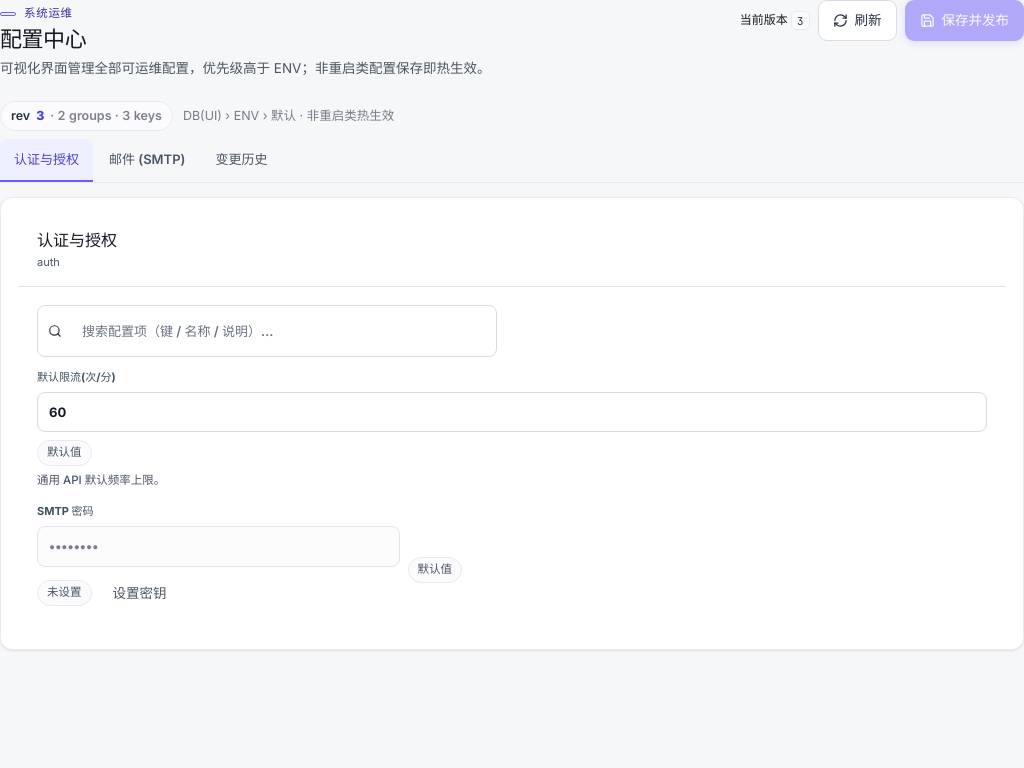
Scenario: AdminPlatformConfigPage › 变更历史渲染发布版本并完成回滚确认流
Click the tab with test id "cfg-tab-history": point(241, 160) [201,139,281,182]
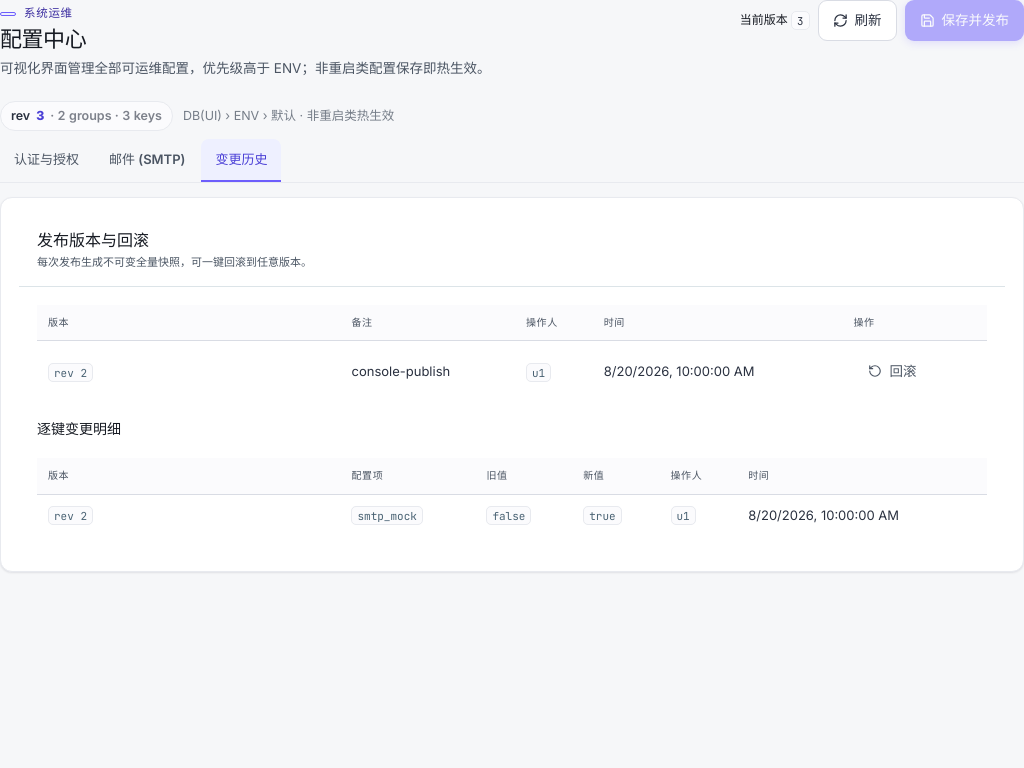
Check: the row with test id "cfg-rev-2" is shown, box [37,341,987,402]
Check: the row with test id "cfg-hist-cfg_1" is shown, box [37,495,987,535]
Click the button with test id "cfg-rollback-2": point(892, 371) [853,351,931,392]
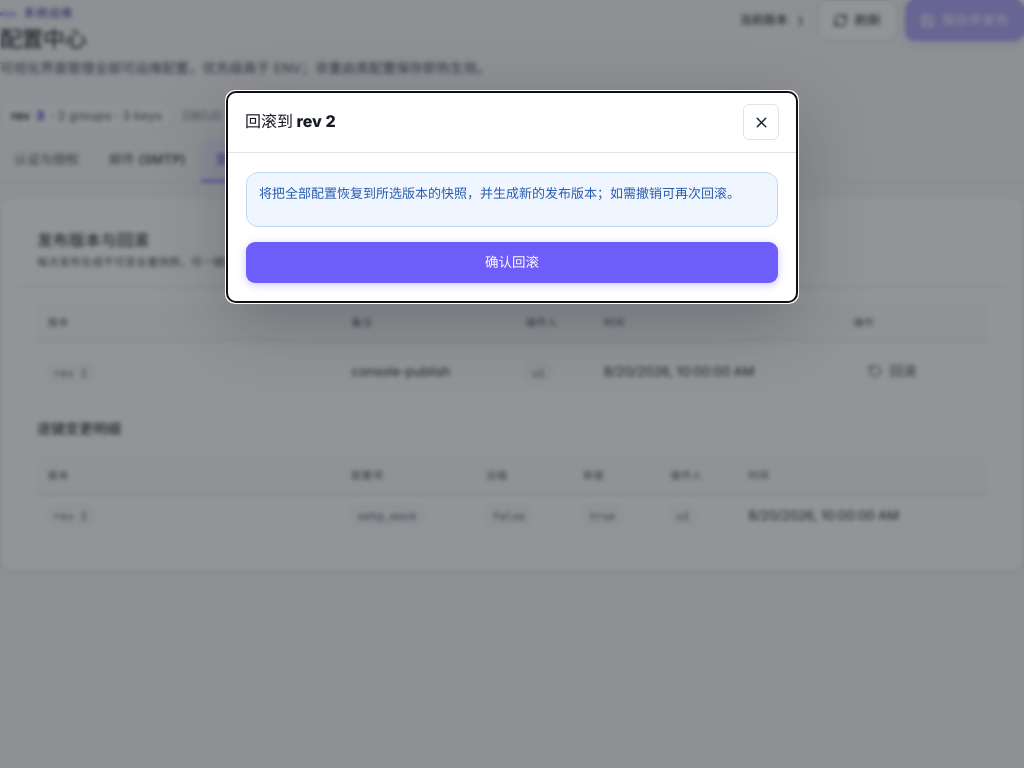
Check: the dialog is shown, box [227,92,797,302]
Click the button with test id "cfg-rollback-confirm": point(512, 263) [246,242,778,283]
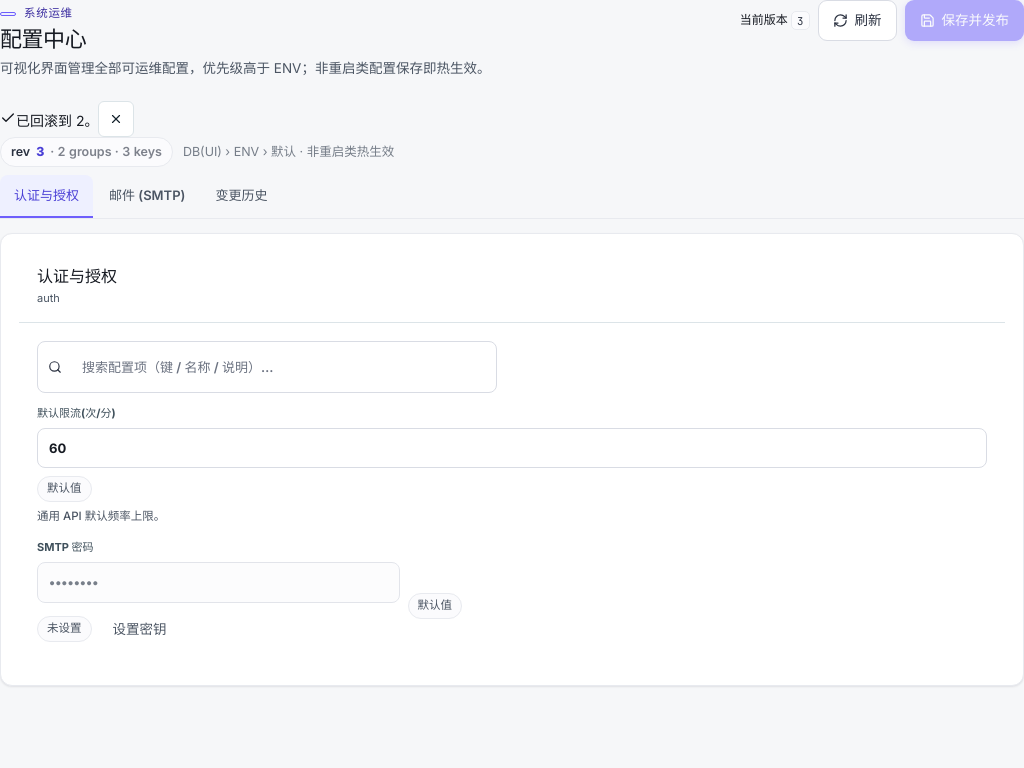
Check: the text "已回滚到 2。" is shown, box [0,101,134,137]
